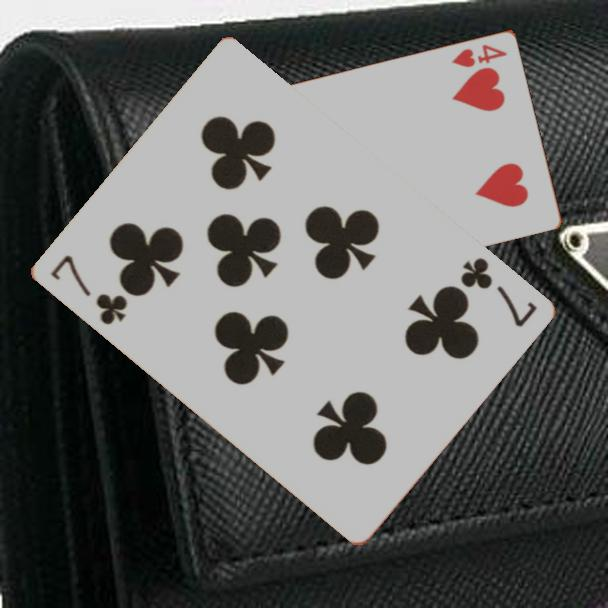c07: (46, 251, 130, 329), (456, 253, 539, 330)
h04: (448, 40, 510, 70)
